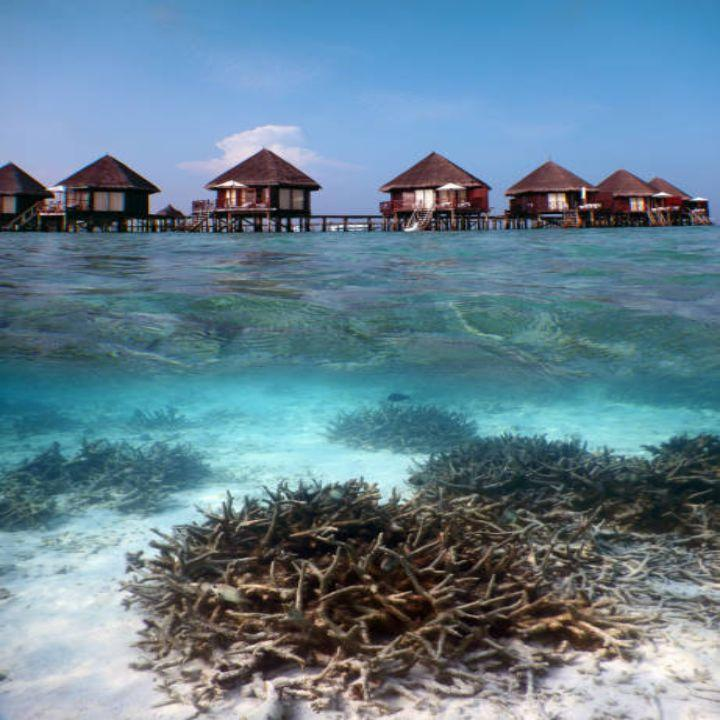Dead Coral: (128, 482, 660, 709)
